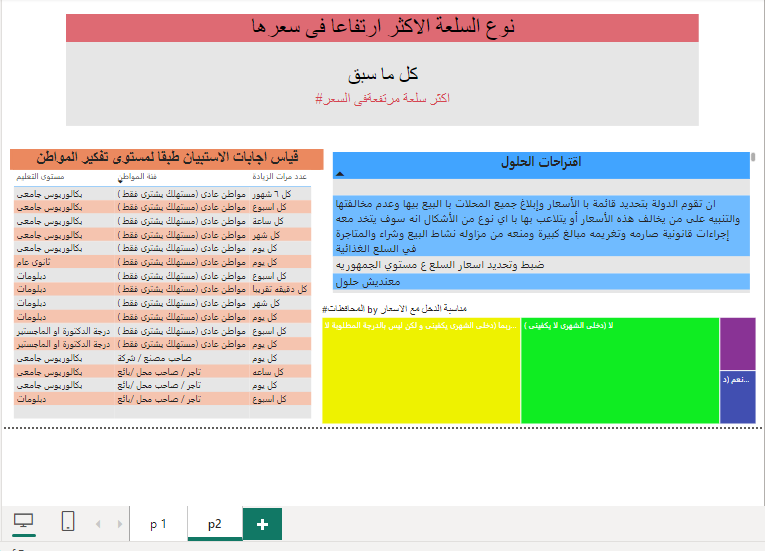

What the dashboard file says about the page in this screenshot:
{"tool":"powerbi","page":{"name":"p2","canvas":[1280,720],"ordinal":1},"visuals":[{"type":"card","title":"نوع السلعة الاكثر ارتفاعا فى سعرها ","fields":{"Values":["رؤية مصر 2030 للغش التجارى فى السلع الغذائية و ارتفاع الاسعار.#اكثر سلعة مرتفعةفى السعر"]},"box":[107.5,26.9,1063.3,188.1],"z":0},{"type":"tableEx","title":"قياس اجابات الاستبيان طبقا لمستوى تفكير المواطن ","fields":{"Values":["رؤية مصر 2030 للغش التجارى فى السلع الغذائية و ارتفاع الاسعار.مستوى التعليم","رؤية مصر 2030 للغش التجارى فى السلع الغذائية و ارتفاع الاسعار.فئة المواطن","رؤية مصر 2030 للغش التجارى فى السلع الغذائية و ارتفاع الاسعار.عدد مرات الزيادة"]},"box":[13.4,253.6,527.5,467],"z":1000},{"type":"tableEx","fields":{"Values":["رؤية مصر 2030 للغش التجارى فى السلع الغذائية و ارتفاع الاسعار.اقتراحات الحلول"]},"box":[549.3,253.6,722.3,246.9],"z":2000},{"type":"treemap","fields":{"Values":["رؤية مصر 2030 للغش التجارى فى السلع الغذائية و ارتفاع الاسعار.#المحافظات"],"Group":["رؤية مصر 2030 للغش التجارى فى السلع الغذائية و ارتفاع الاسعار.مناسبة الدخل مع الاسعار"]},"box":[532.5,512.3,739.1,208.3],"z":3000}]}

Visuals, with their boxes on the page's 1280x720 design canvas (x1, y1, x2, y2). These are canvas units, not pixel positions in the 765x551 screenshot, which may show the page scaled, cropped or inside an application window:
"نوع السلعة الاكثر ارتفاعا فى سعرها " card: left=108, top=27, right=1171, bottom=215
"قياس اجابات الاستبيان طبقا لمستوى تفكير المواطن " tableEx: left=13, top=254, right=541, bottom=721
tableEx - رؤية مصر 2030 للغش التجارى فى السلع الغذائية و ارتفاع الاسعار.اقتراحات الحلول: left=549, top=254, right=1272, bottom=500
treemap - رؤية مصر 2030 للغش التجارى فى السلع الغذائية و ارتفاع الاسعار.#المحافظات x رؤية مصر 2030 للغش التجارى فى السلع الغذائية و ارتفاع الاسعار.مناسبة الدخل مع الاسعار: left=532, top=512, right=1272, bottom=721
